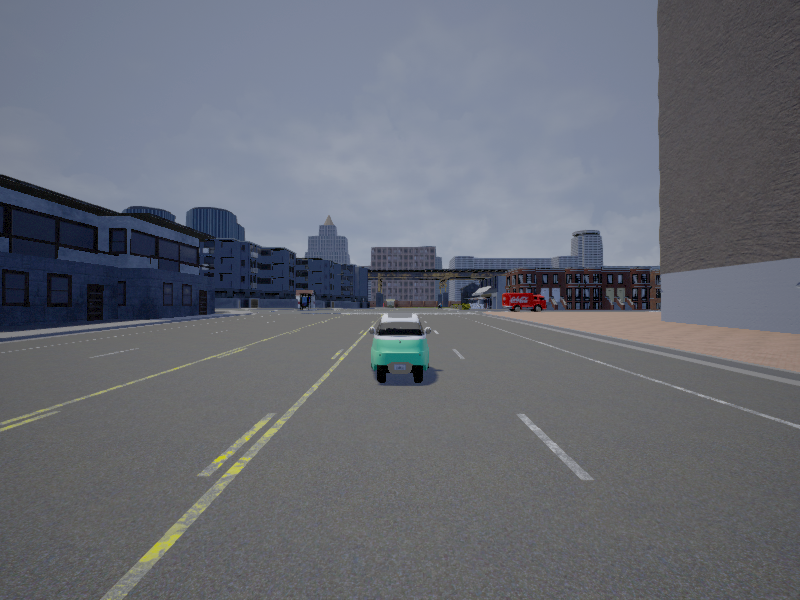Benign: (371, 313, 431, 385), (501, 291, 547, 313)
